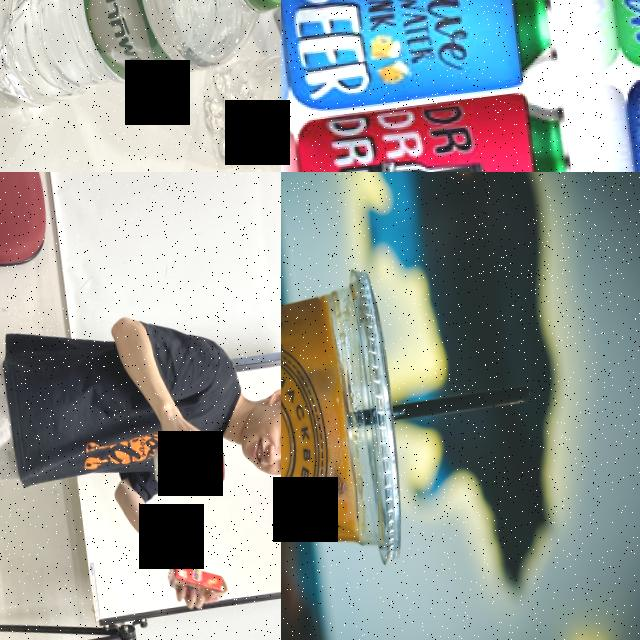bottle: (0, 0, 281, 115), (193, 11, 281, 172)
can: (281, 0, 562, 112), (290, 79, 581, 172), (149, 439, 226, 491)
cup: (281, 264, 413, 601)
